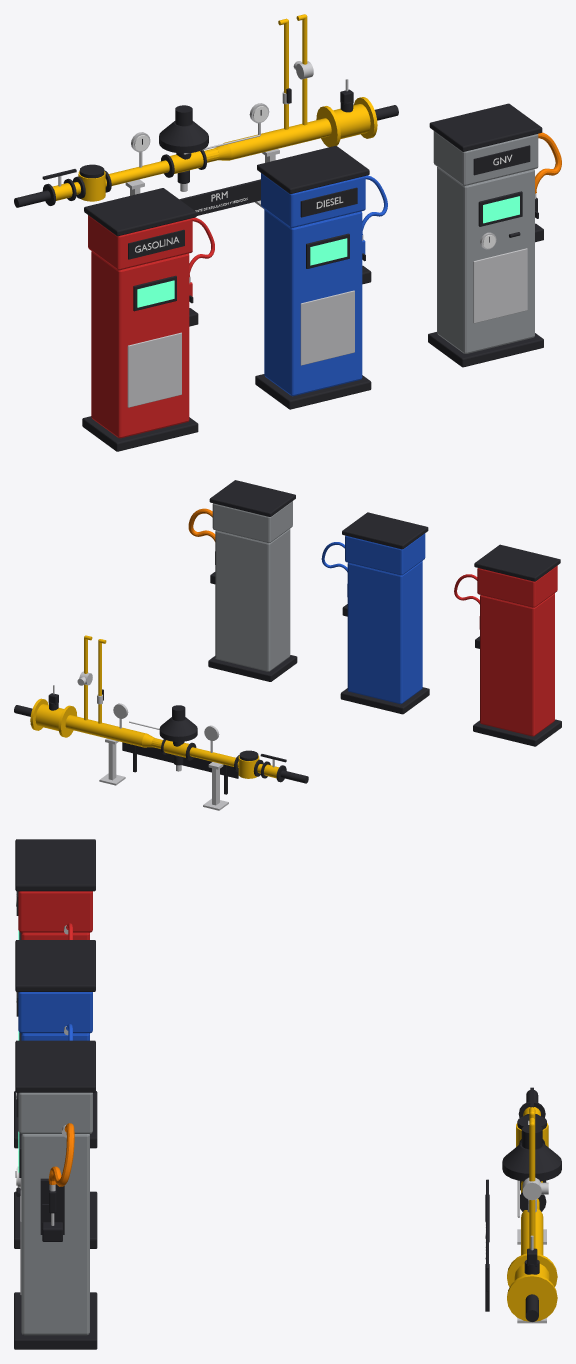
Rendered from Petro_Surtidores_PRM.glb.
The picture shows the model from 3 angles, top to bottom: view 1: azimuth 30°, elevation 25°; view 2: azimuth 150°, elevation 25°; view 3: azimuth 270°, elevation 25°; orthographic projection. The views are drawn at different scales.
Visible parts, largest first — view 1: Dispensador_Gasolina_Rojo, Dispensador_Diesel_Azul, Dispensador_GNV_Plomo, PRM_Puente_Regulacion_Medicion_Amarillo, Manguera_GNV_Naranja; view 2: Dispensador_Diesel_Azul, Dispensador_GNV_Plomo, Dispensador_Gasolina_Rojo, PRM_Puente_Regulacion_Medicion_Amarillo; view 3: Dispensador_GNV_Plomo, PRM_Puente_Regulacion_Medicion_Amarillo, Dispensador_Diesel_Azul, Dispensador_Gasolina_Rojo, Manguera_GNV_Naranja.
Boxes of the visible parts, x1,y1,x2,y2 form: Dispensador_Gasolina_Rojo: (82,188,198,451); Dispensador_Diesel_Azul: (255,145,371,409); Dispensador_GNV_Plomo: (428,103,543,367); PRM_Puente_Regulacion_Medicion_Amarillo: (14,14,398,215); Manguera_GNV_Naranja: (535,132,561,218); Dispensador_Diesel_Azul: (340,512,429,714); Dispensador_GNV_Plomo: (208,480,297,681); Dispensador_Gasolina_Rojo: (473,544,561,746); PRM_Puente_Regulacion_Medicion_Amarillo: (14,635,308,810); Dispensador_GNV_Plomo: (14,1040,97,1349); PRM_Puente_Regulacion_Medicion_Amarillo: (485,1087,561,1323); Dispensador_Diesel_Azul: (14,940,97,1248); Dispensador_Gasolina_Rojo: (14,839,97,1148); Manguera_GNV_Naranja: (42,1123,74,1225).
Bounding box in the file's own units: 4.6 × 1.95 × 3.68.
